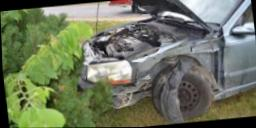Bonnet: (84, 0, 208, 60)
Bumper: (75, 77, 151, 109), (76, 46, 98, 78)
Fender: (131, 32, 228, 99)
